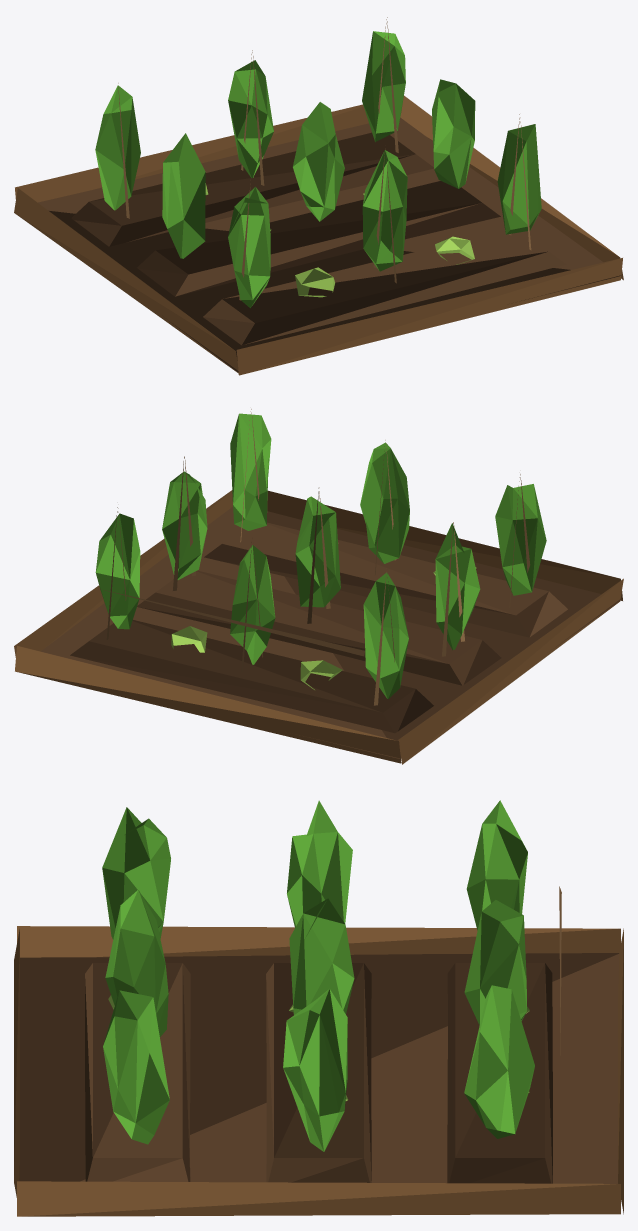
The model's file is garden_plot_2_lod1.glb.
3 renders of one model, top to bottom at view 1: azimuth 30°, elevation 25°; view 2: azimuth 150°, elevation 25°; view 3: azimuth 270°, elevation 25°, orthographic. The views are drawn at different scales.
Visible parts, largest first — view 1: garden_plot_2_lod1; view 2: garden_plot_2_lod1; view 3: garden_plot_2_lod1.
Boxes of the visible parts, x1,y1,x2,y2 form: garden_plot_2_lod1: [14, 17, 623, 375]; garden_plot_2_lod1: [14, 409, 623, 764]; garden_plot_2_lod1: [14, 800, 623, 1216].
Size of the model in its own units: 4.04 by 1.5 by 4.04.
